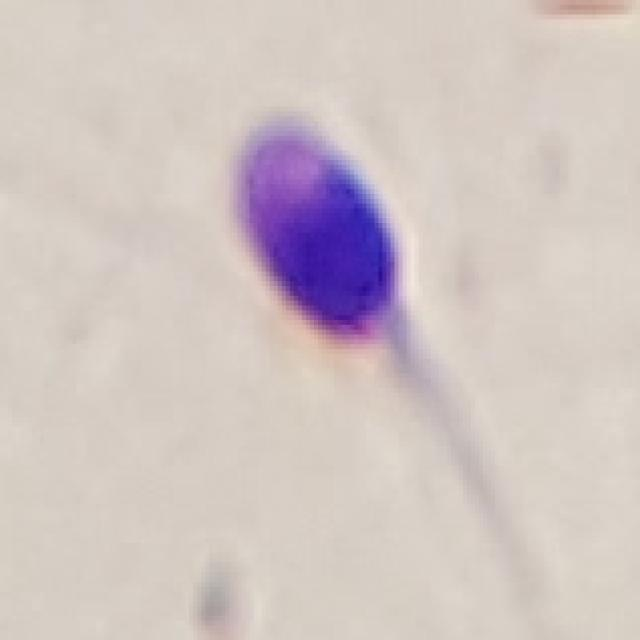normal sperm: (222, 118, 468, 542)
